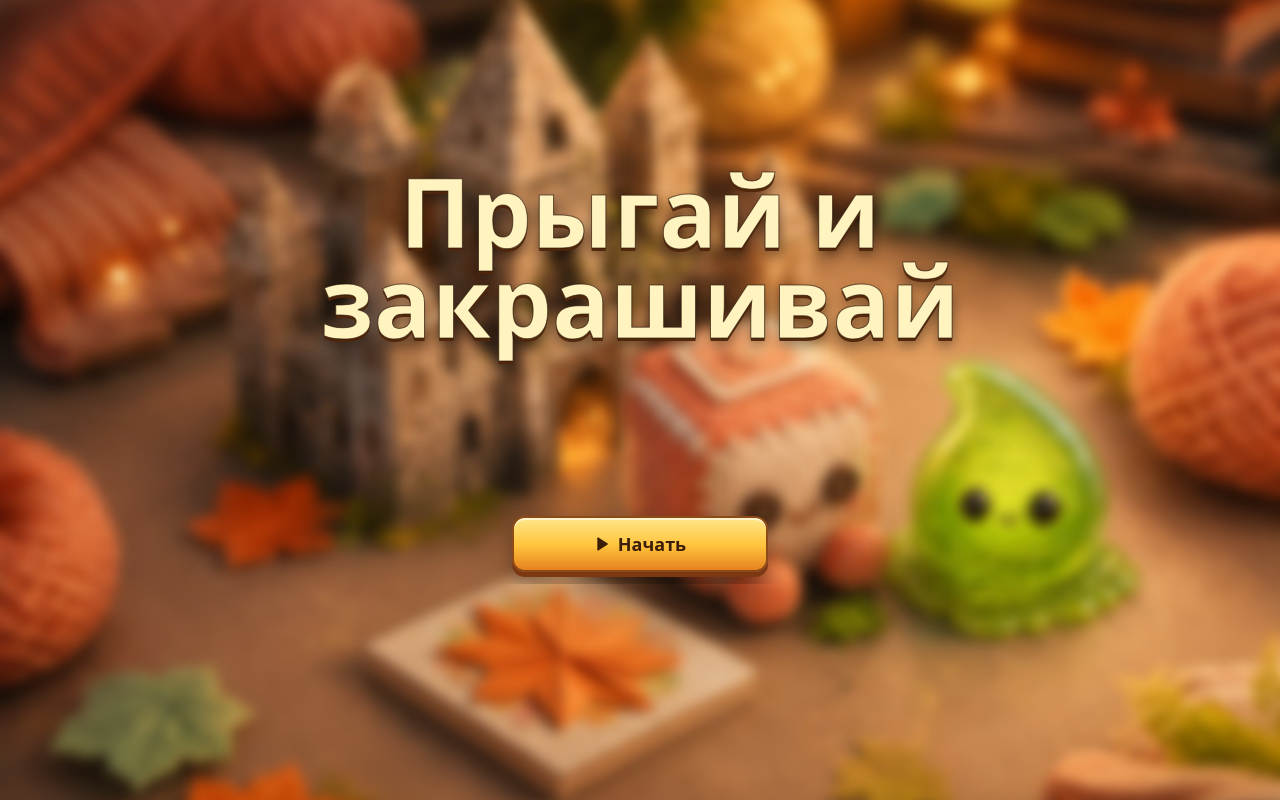
Scenario: GameCanvas yandex lifecycle › shows a first-run start button and saves start before the tutorial plays
Click the button "Начать" at (640, 544), box [512,516,768,572]
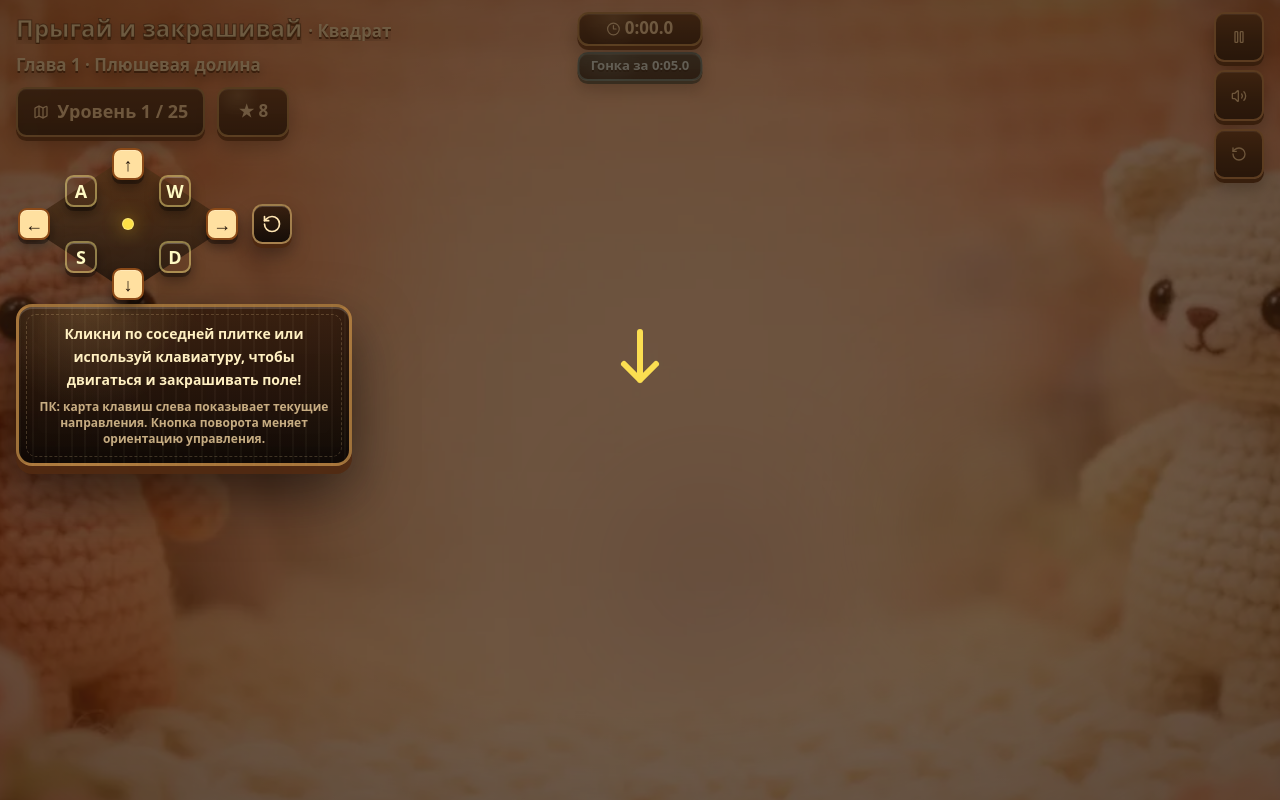
Expected: the element with test id "start-screen" is gone
